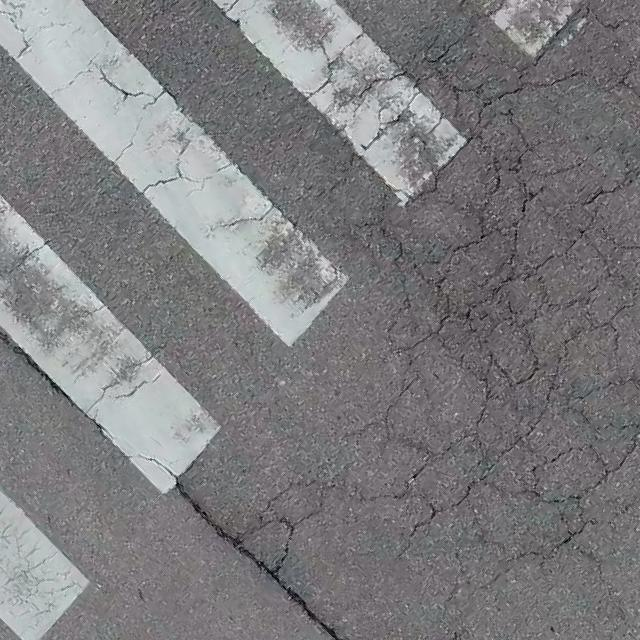GRIETA: (0, 329, 178, 480), (177, 481, 342, 639)
PIEL DE COCODRILO: (104, 0, 639, 639)
